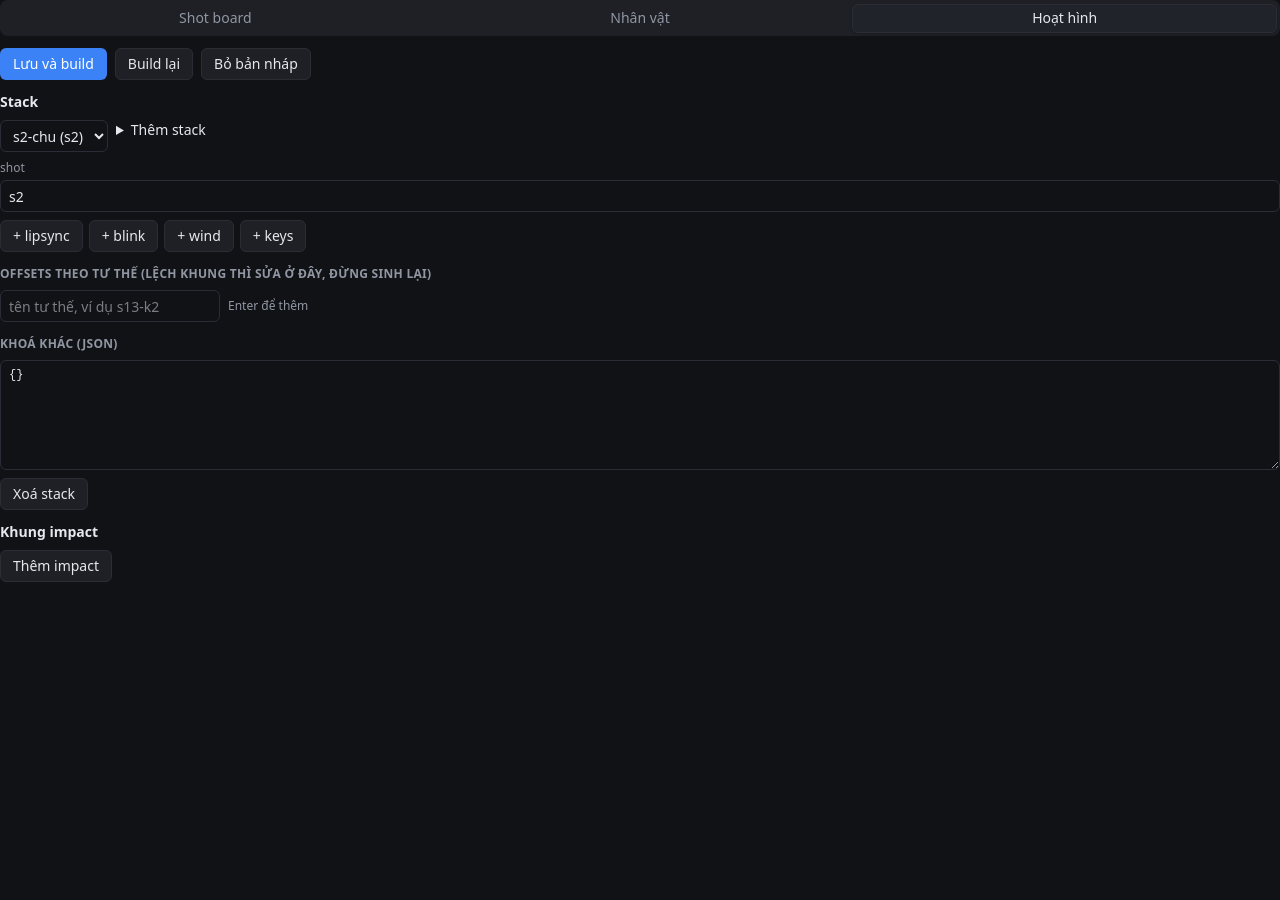
Scenario: Hoạt hình (manifest editor) › 428 cancelled: nothing is sent again
Click the button "Lưu và build": (53, 64) [0,48,107,80]
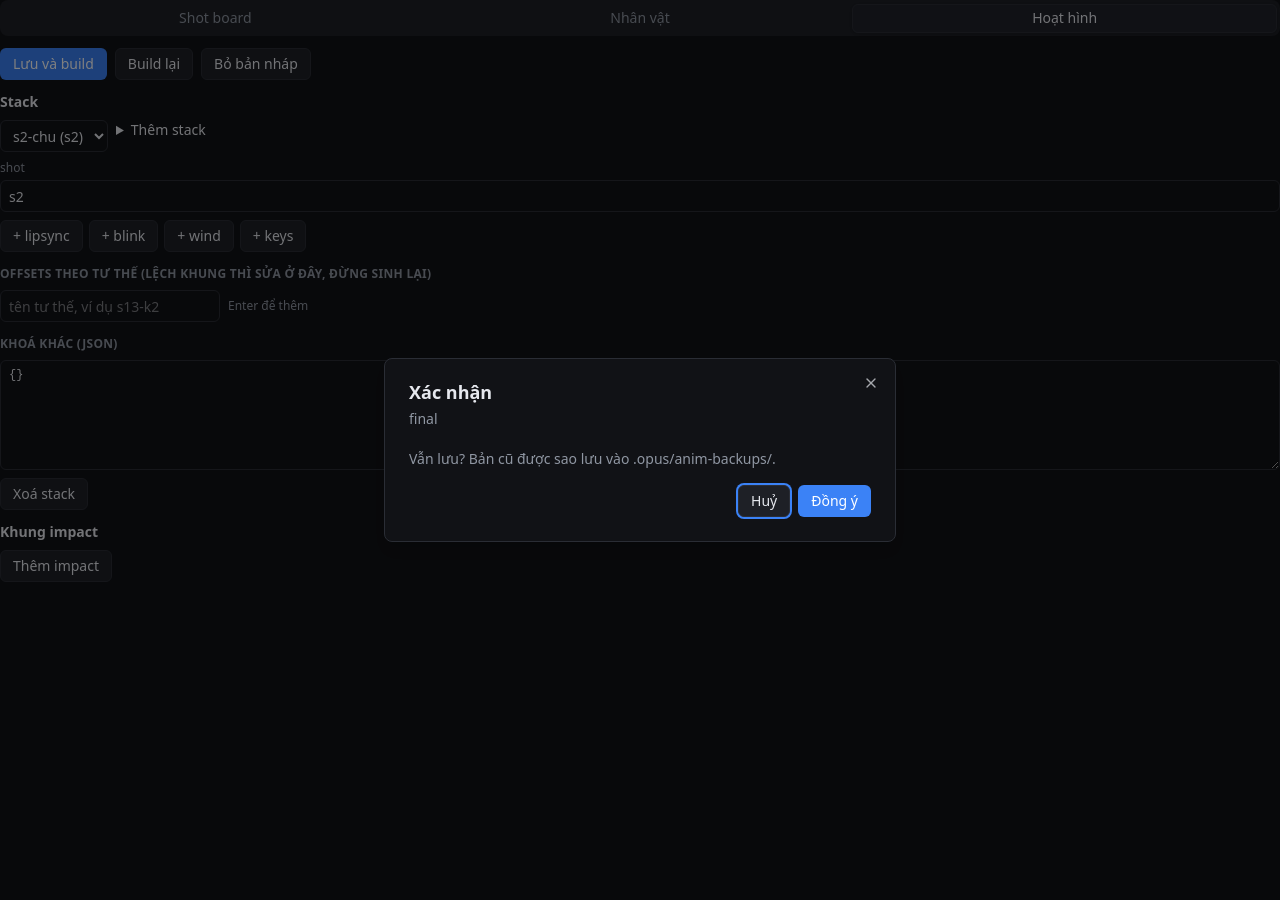
Click the button "Huỷ": (764, 501) [738,485,790,517]
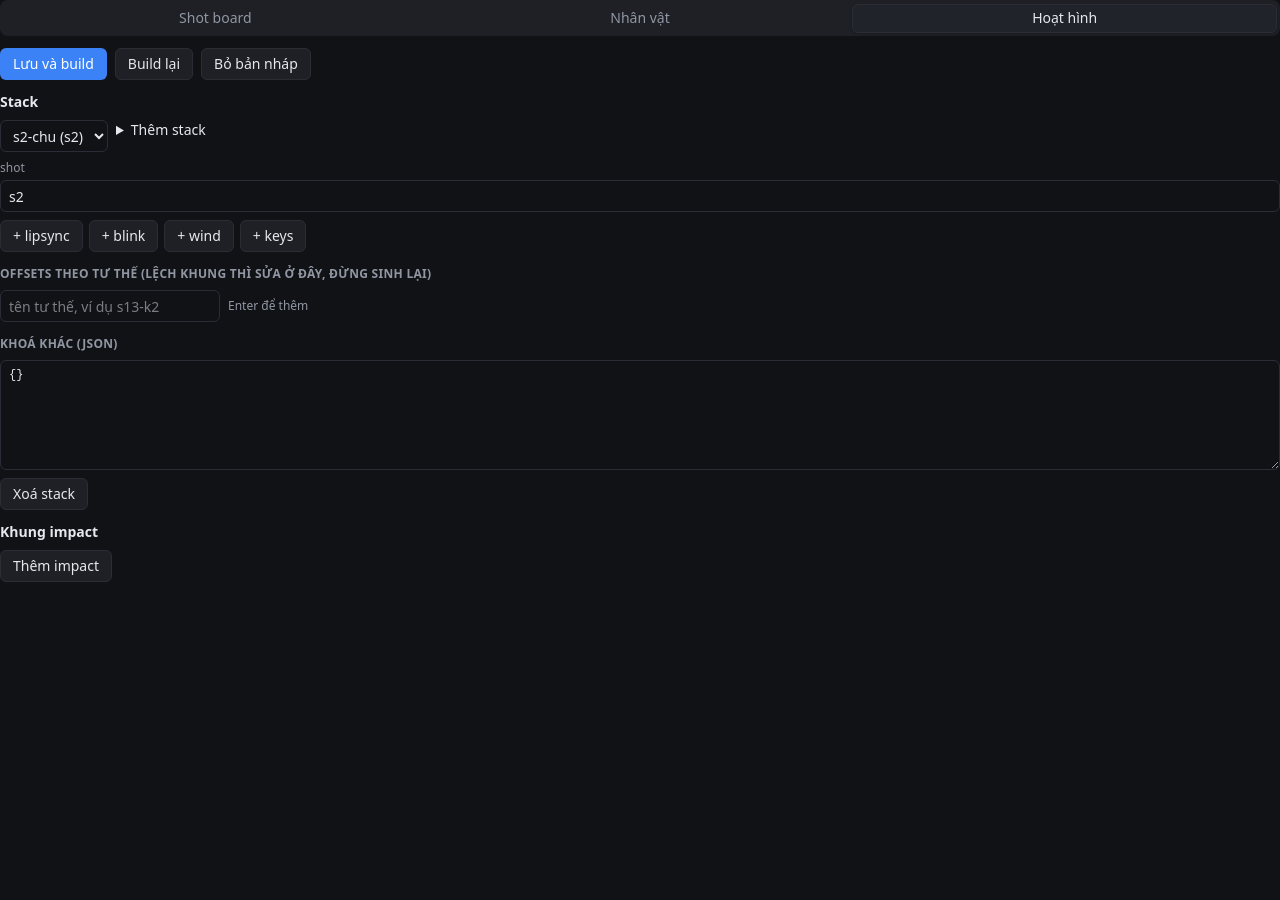
Expected: the dialog is gone
